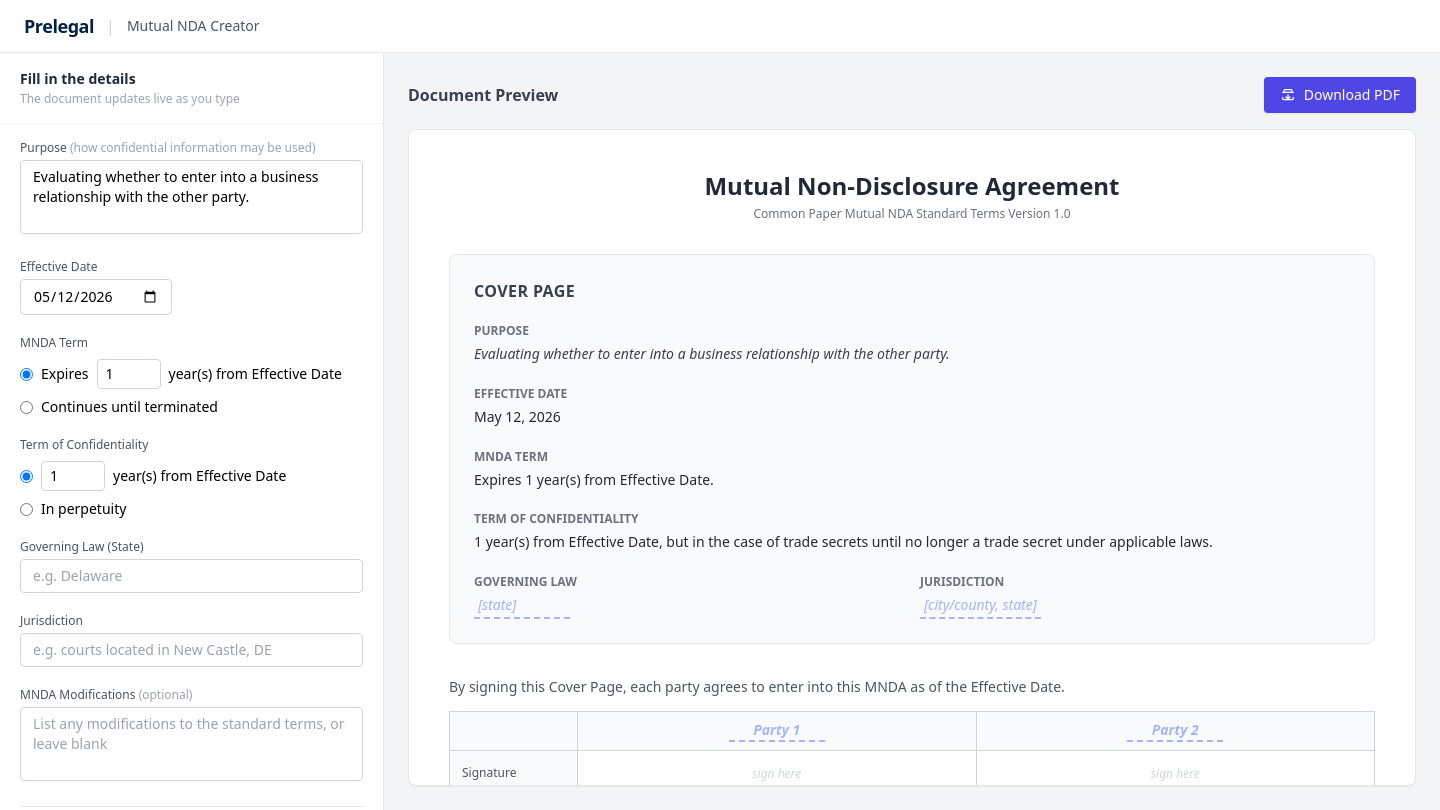
Test: Home page – live preview updates › switching confidentiality term to 'perpetual' updates preview clause 5 text
Click the radio button labelled "In perpetuity" at [26, 509], box [20,502,33,516]
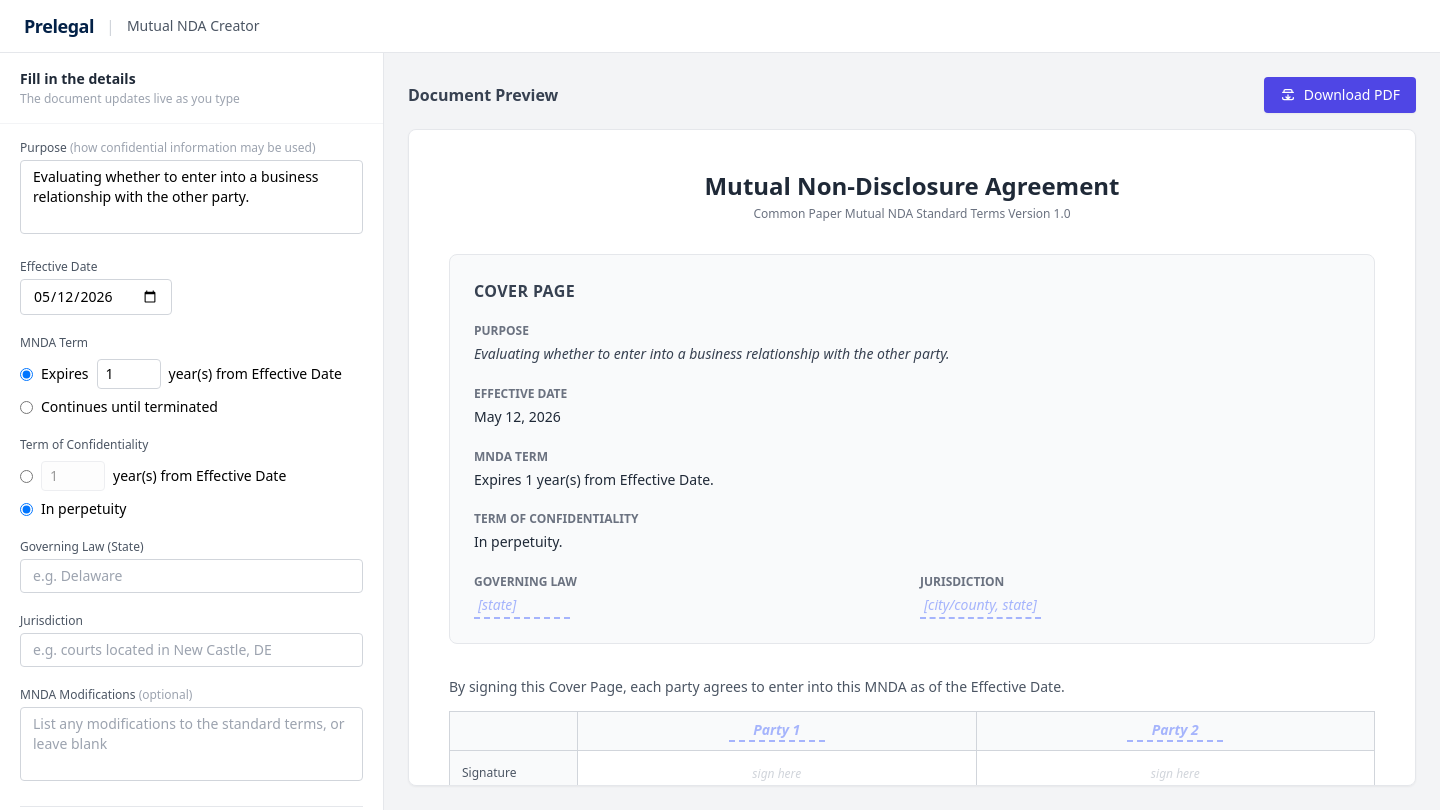
Expected: the text "In perpetuity." is shown, [474,532,562,551]
